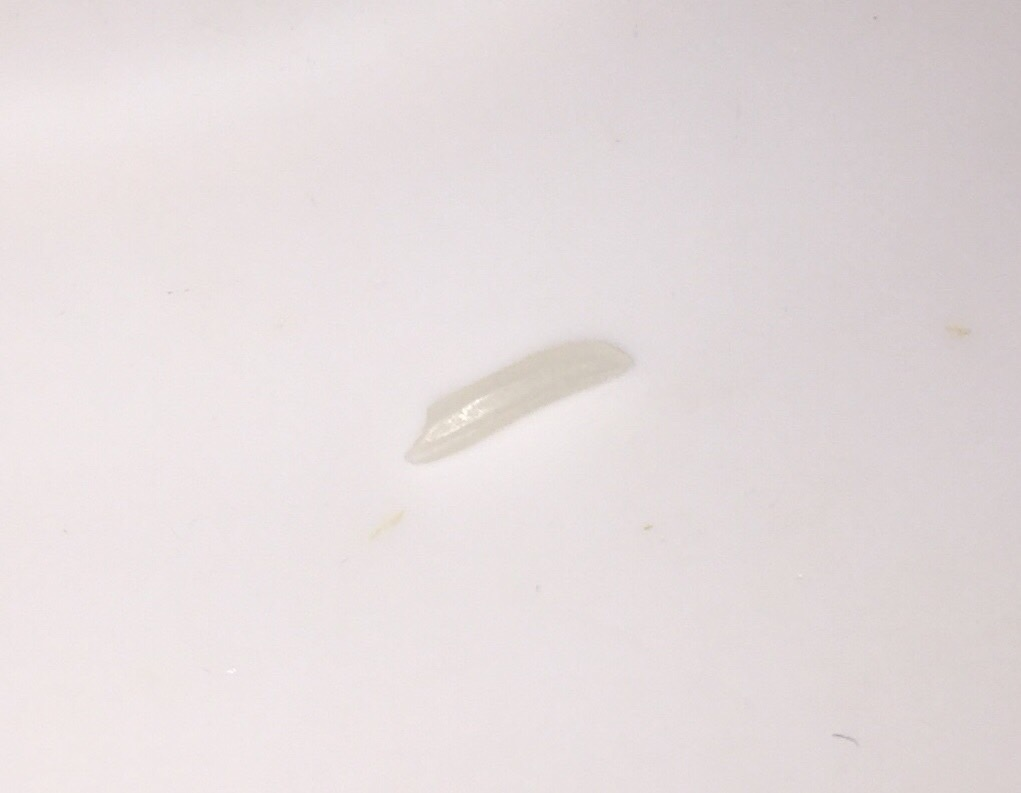Gao Ngoc Troi: (406, 325, 642, 473)
